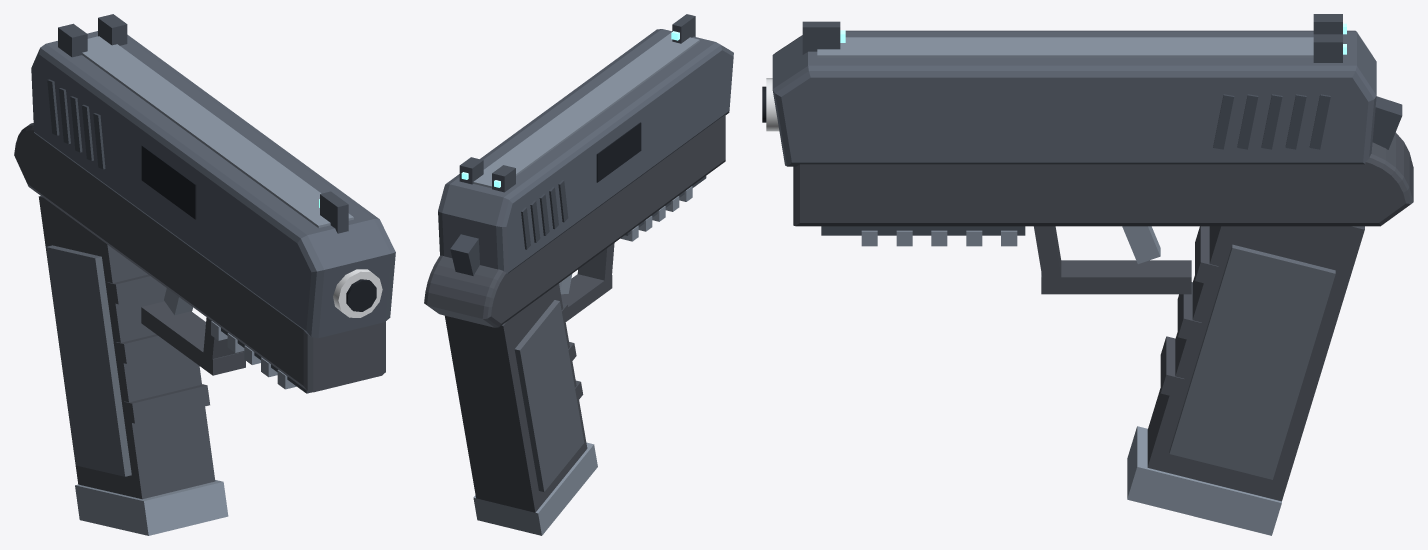
The model's file is weapon_pistol_tactical.glb.
3 views of the same model, side by side, from view 1: azimuth 30°, elevation 25°; view 2: azimuth 150°, elevation 25°; view 3: azimuth 270°, elevation 25° (orthographic). The views are drawn at different scales.
Visible parts, largest first — view 1: slide, PistolGrip, PistolFrame, Weapon_pistol, magazine; view 2: slide, PistolGrip, PistolFrame, Weapon_pistol, magazine; view 3: slide, PistolGrip, PistolFrame, Weapon_pistol, magazine.
Boxes of the visible parts, bbox=[...] form: slide: bbox=[31, 14, 395, 338]; PistolGrip: bbox=[38, 196, 215, 499]; PistolFrame: bbox=[14, 123, 385, 392]; Weapon_pistol: bbox=[141, 269, 382, 393]; magazine: bbox=[75, 480, 228, 535]; slide: bbox=[438, 14, 733, 274]; PistolGrip: bbox=[445, 283, 587, 512]; PistolFrame: bbox=[424, 114, 725, 327]; Weapon_pistol: bbox=[450, 176, 706, 320]; magazine: bbox=[473, 442, 597, 535]; slide: bbox=[772, 14, 1376, 166]; PistolGrip: bbox=[1147, 226, 1364, 501]; PistolFrame: bbox=[793, 132, 1413, 226]; Weapon_pistol: bbox=[762, 78, 1402, 294]; magazine: bbox=[1127, 426, 1281, 535].
Size of the model in its own units: 0.04 by 0.2021 by 0.2428.
